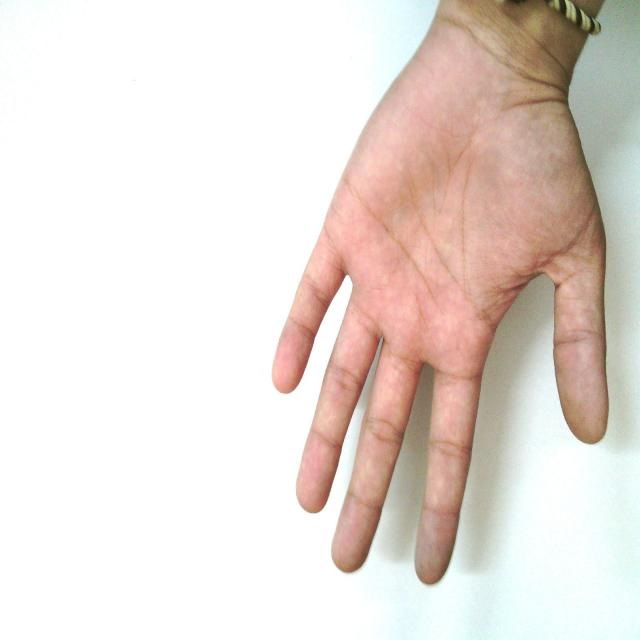others: (213, 0, 636, 592)
